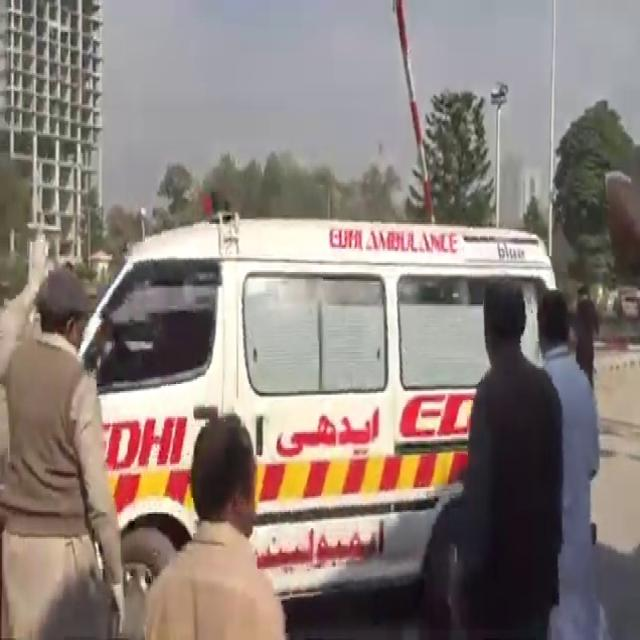ambulance: (56, 211, 625, 611)
